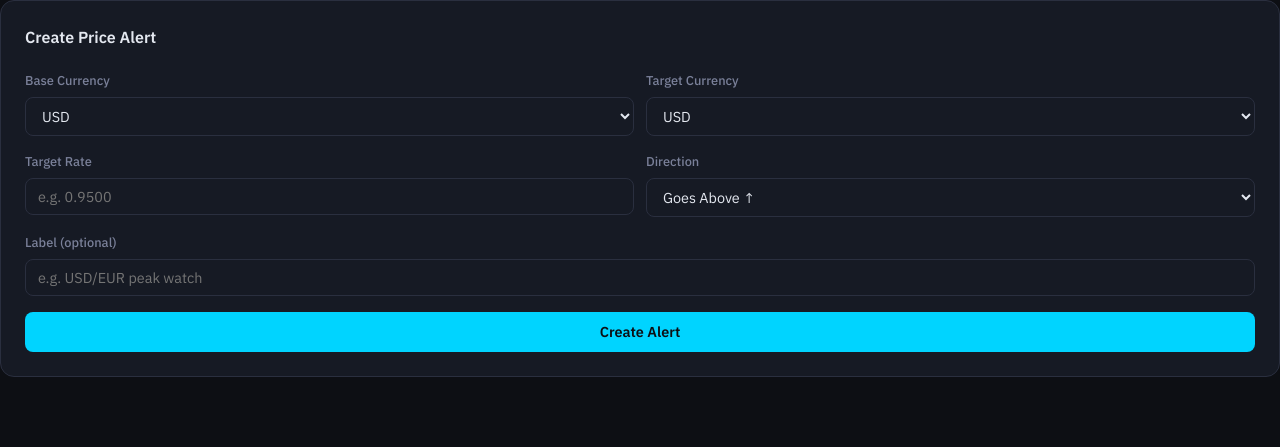
Test case: AlertForm › shows validation error when base and target currencies are the same
Type "1.0" into the number field labelled "Target Rate".
click(330, 196); type("1.0")  # box [25, 178, 634, 215]
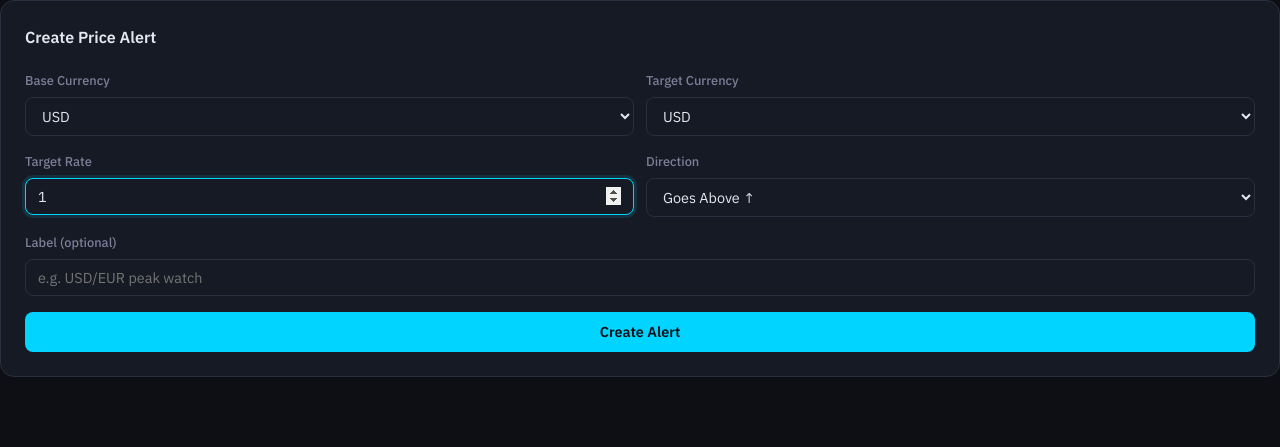
Click the button "Create Alert".
click(640, 332)  # box [25, 312, 1255, 352]
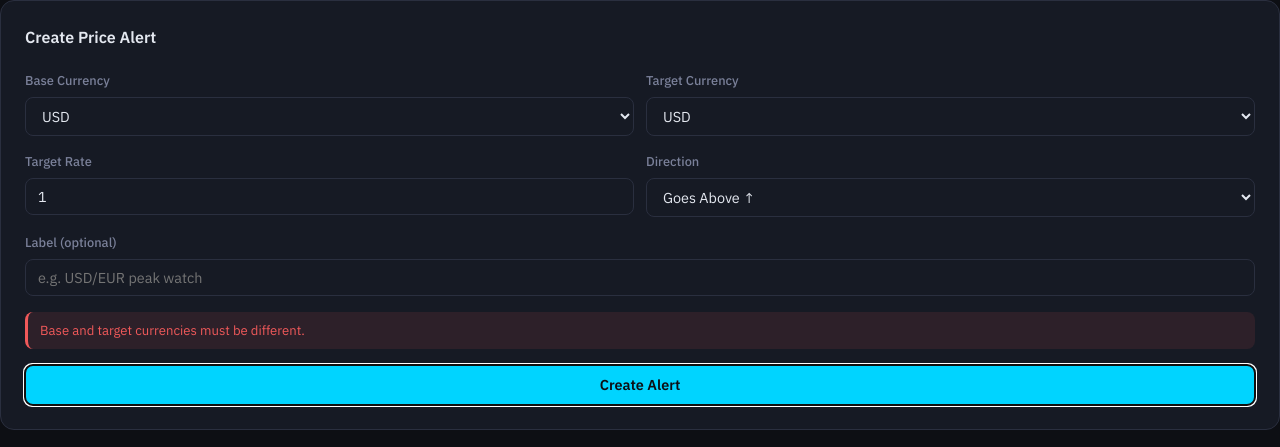
Expected: the message shows "different", [40, 322, 305, 339]
